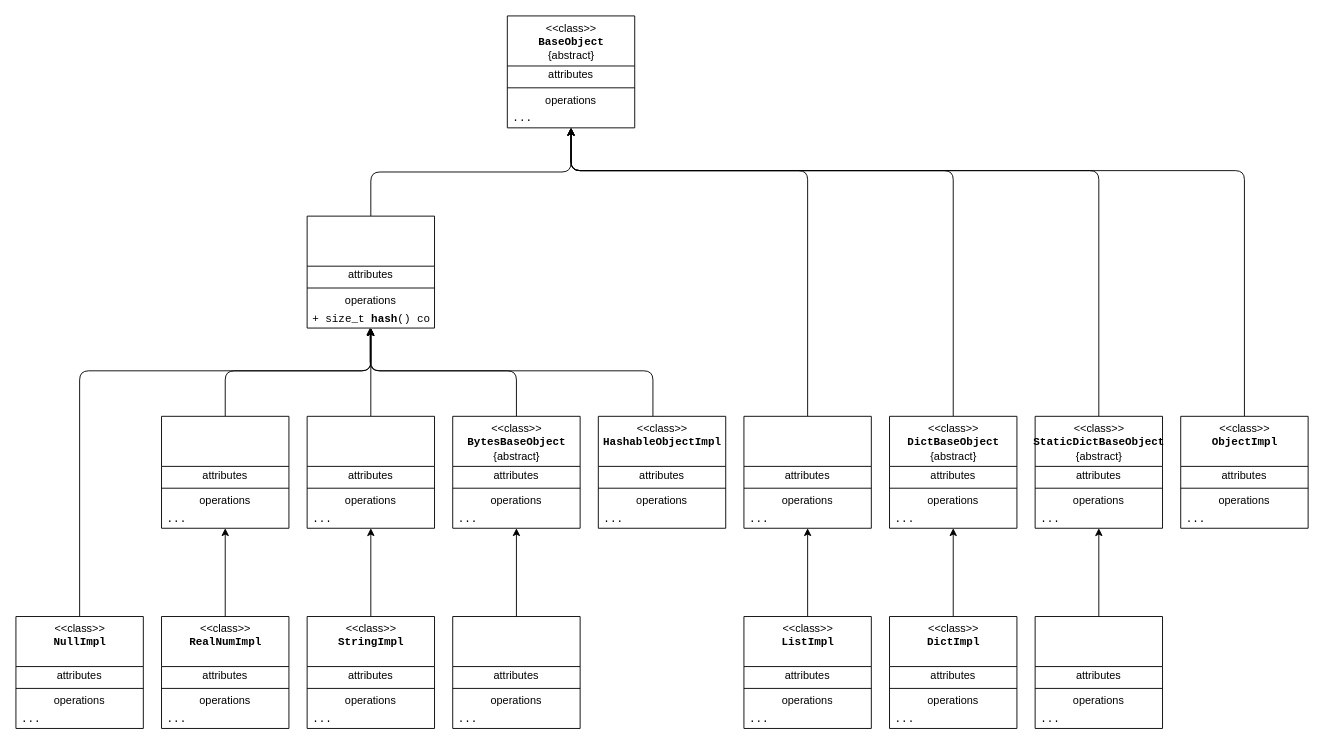
This 1324x744 diagram has some shape labels left out. The shapes that lost their labels are listed below. From the top down, each one's box as (x1, y1, x2, y2) in pixels, then its label:
(306, 215, 435, 328): <<class>> HashableBaseObject {abstract}
(161, 415, 289, 528): <<class>> RealNumBaseObject {abstract}
(306, 415, 435, 528): <<class>> StringBaseObject {abstract}
(743, 415, 871, 528): <<class>> ListBaseObject {abstract}
(452, 616, 580, 728): <<class>> BytesImpl
(1034, 616, 1163, 728): <<class>> StaticDictImpl
